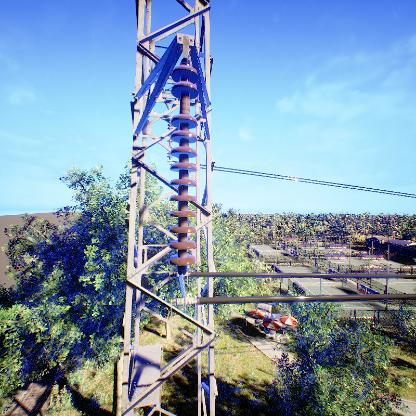insulator: (165, 64, 202, 273)
